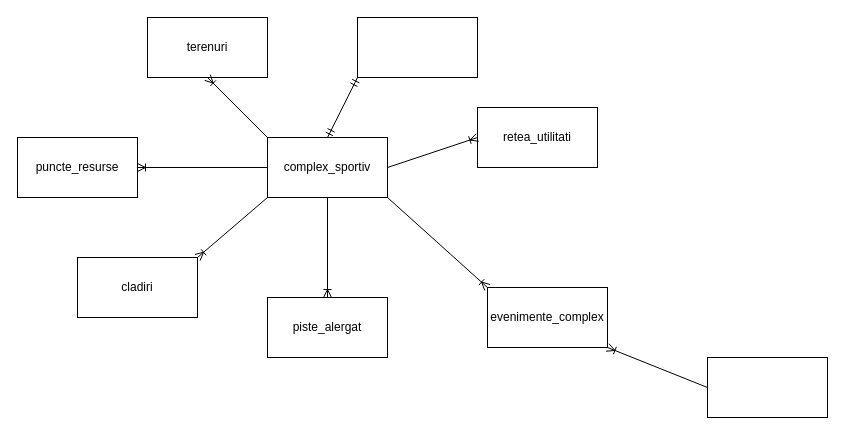
The diagram is 845 pixels wide and 435 high, and some of its shapes have lost their labels. The centre of each missing label's shape, as x and y in pixels:
eveniment_sportiv: (x=767, y=387)
muzeu_trofee: (x=417, y=47)
